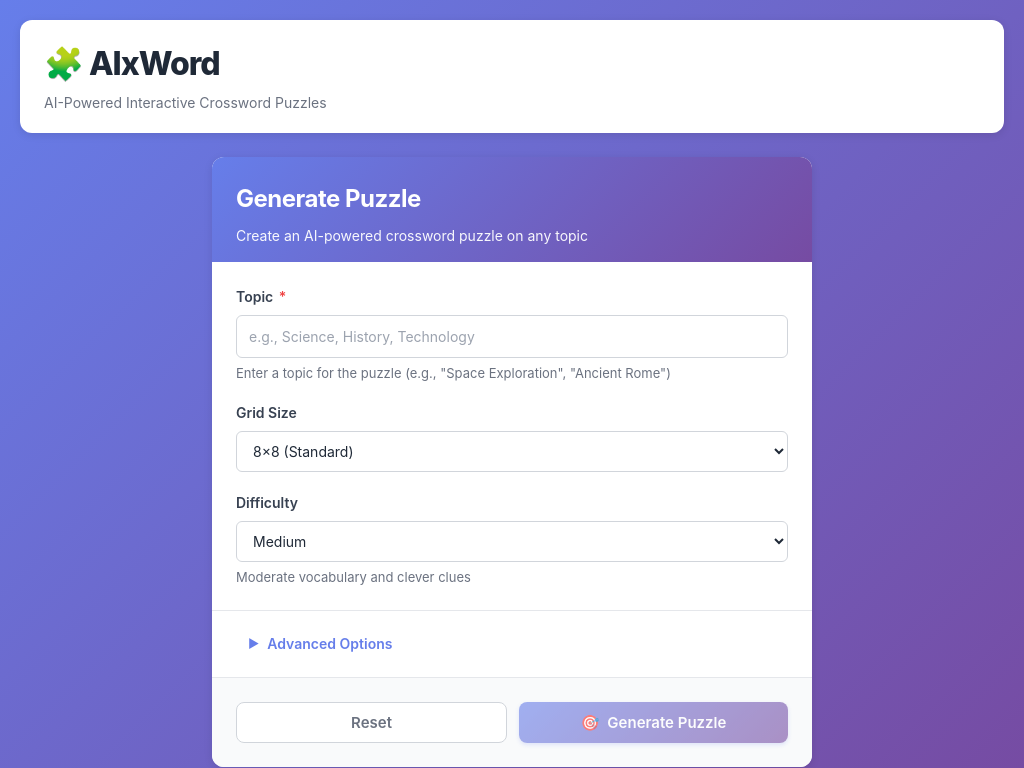
Test case: Integration Tests - Complete Puzzle Flow › Complete User Journey: Generation → Solving → Validation › should handle puzzle generation failure gracefully
Fill in and submit the form
Type "InvalidTopic" into the field labelled "Topic *" at point(512, 336), box [236,315,788,358]
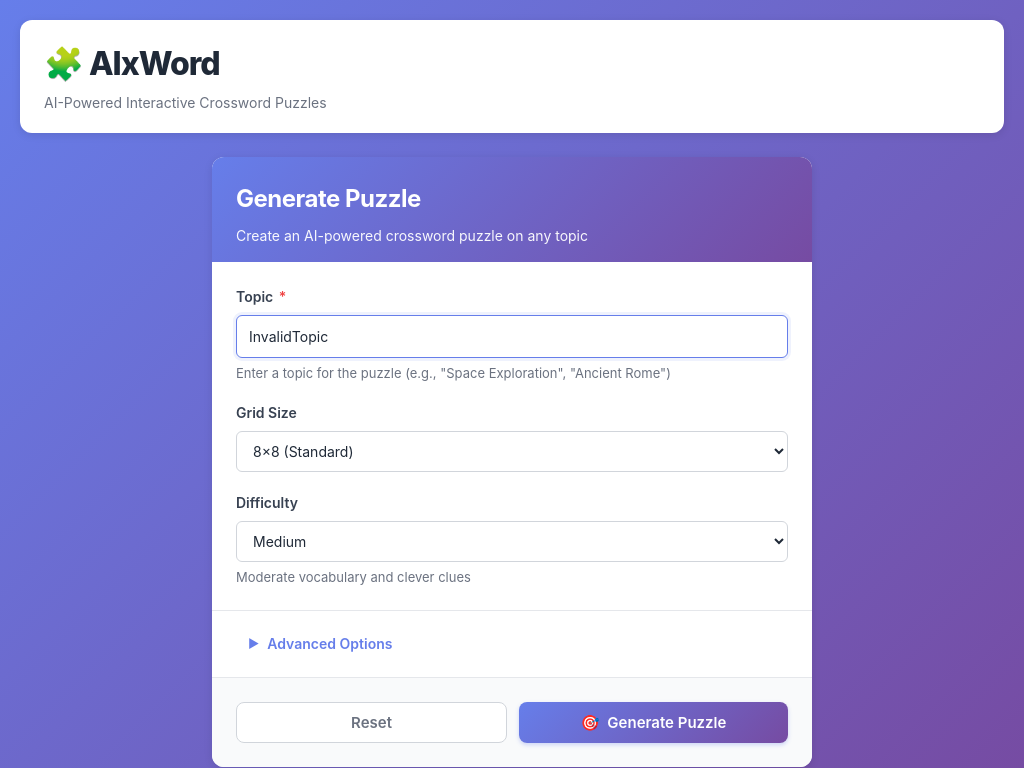
Click the button "🎯 Generate Puzzle" at point(654, 723), box [519,702,788,743]
(page scrolled)
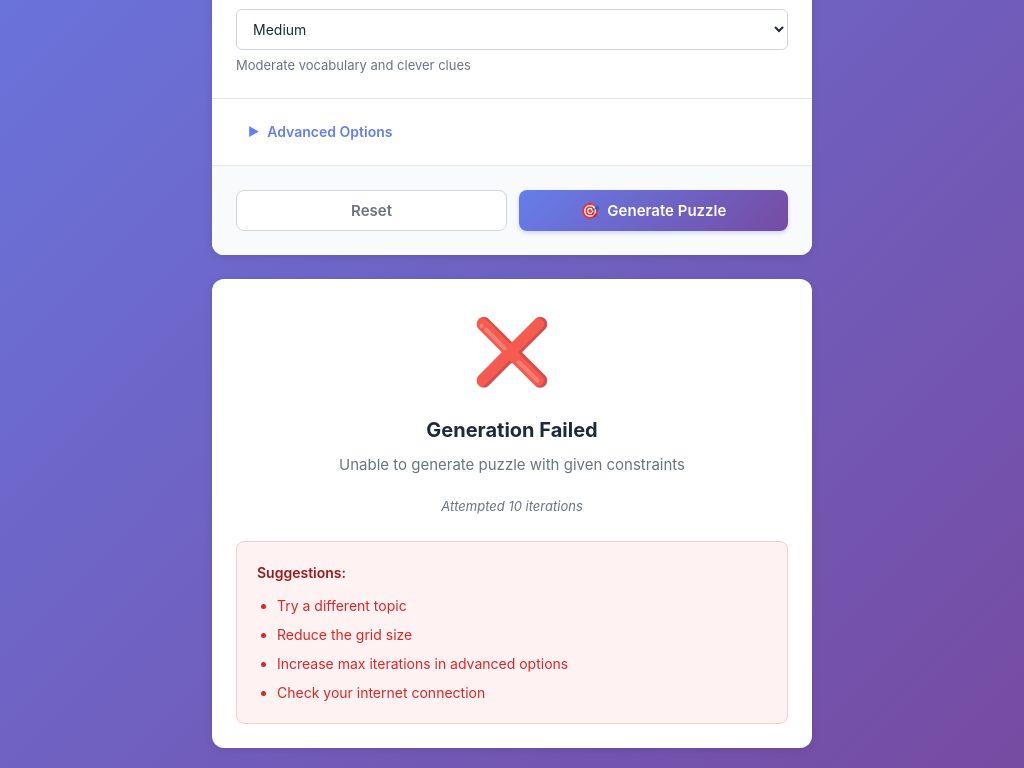
Expected: the text "Unable to generate puzzle with given constraints" is shown, [339,455,685,474]
